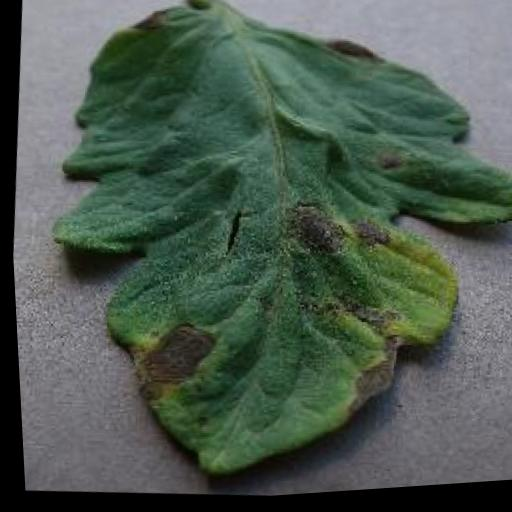Early Blight: (24, 0, 512, 511)
